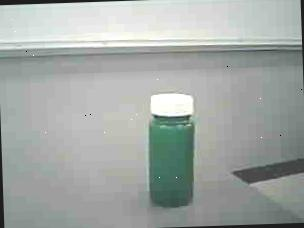Bottle C: (142, 89, 206, 218)
